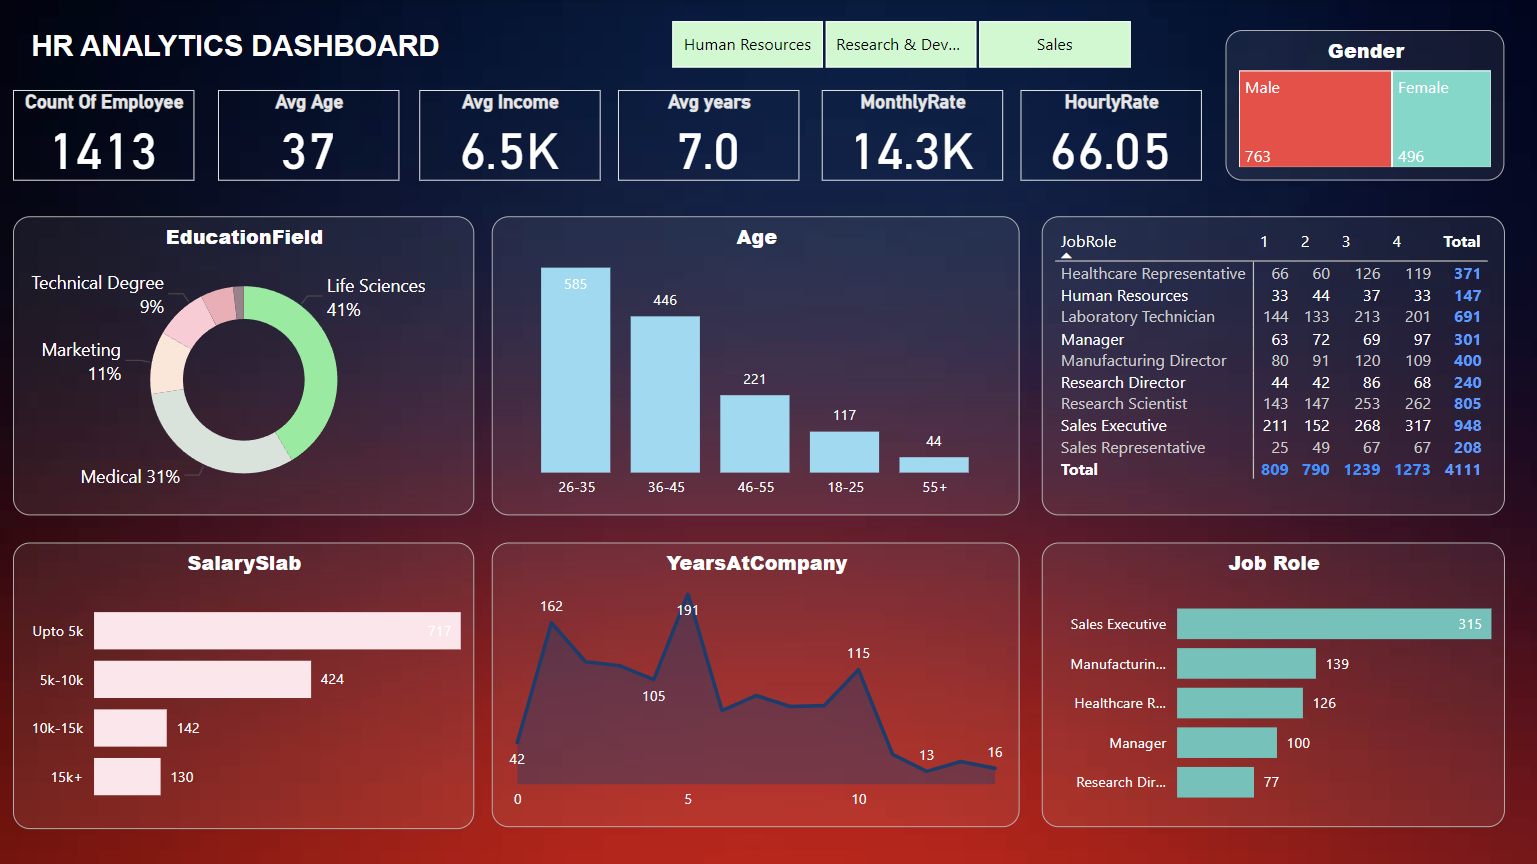

What the dashboard file says about the page in this screenshot:
{"tool":"powerbi","page":{"name":"Page 1","canvas":[1280,720],"ordinal":0},"visuals":[{"type":"card","title":"Count Of Employee","fields":{"Values":["CountNonNull(HR_Analytics.EmpID)"]},"box":[12.5,75,150,75],"z":0},{"type":"card","title":"Avg Age","fields":{"Values":["Avg(HR_Analytics.Age)"]},"box":[182.5,75,150,75],"z":1000},{"type":"card","title":"MonthlyRate","fields":{"Values":["Avg(HR_Analytics.MonthlyRate)"]},"box":[682.5,75,150,75],"z":2000},{"type":"card","title":"HourlyRate","fields":{"Values":["Avg(HR_Analytics.HourlyRate)"]},"box":[847.5,75,150,75],"z":3000},{"type":"card","title":"Avg Income","fields":{"Values":["Avg(HR_Analytics.MonthlyIncome)"]},"box":[348.8,75,150,75],"z":4000},{"type":"card","title":"Avg years","fields":{"Values":["Avg(HR_Analytics.YearsAtCompany)"]},"box":[513.8,75,150,75],"z":5000},{"type":"donutChart","title":"EducationField","fields":{"Category":["HR_Analytics.EducationField"],"Y":["CountNonNull(HR_Analytics.EmpID)"]},"box":[12,179.1,382.3,248.3],"z":6000},{"type":"columnChart","title":"Age","fields":{"Category":["HR_Analytics.AgeGroup"],"Y":["CountNonNull(HR_Analytics.EmpID)"]},"box":[409.4,179.1,438,248.3],"z":7000},{"type":"pivotTable","fields":{"Rows":["HR_Analytics.JobRole"],"Columns":["HR_Analytics.JobSatisfaction"],"Values":["Sum(HR_Analytics.Education)"]},"box":[865.4,179.1,383.8,248.3],"z":8000},{"type":"clusteredBarChart","title":"SalarySlab","fields":{"Category":["HR_Analytics.SalarySlab"],"Y":["CountNonNull(HR_Analytics.EmpID)"]},"box":[12,450,382.3,237.8],"z":9000},{"type":"clusteredBarChart","title":"Job Role","fields":{"Category":["HR_Analytics.JobRole"],"Y":["CountNonNull(HR_Analytics.EmpID)"]},"box":[865.4,450,383.8,236.3],"z":10000},{"type":"areaChart","title":"YearsAtCompany","fields":{"Category":["HR_Analytics.YearsAtCompany"],"Y":["CountNonNull(HR_Analytics.EmpID)"]},"box":[409.4,450,438,236.3],"z":11000},{"type":"treemap","title":"Gender","fields":{"Group":["HR_Analytics.Gender"],"Values":["CountNonNull(HR_Analytics.EmpID)"]},"box":[1017.5,25,231.2,125],"z":12000},{"type":"slicer","fields":{"Values":["HR_Analytics.Department"]},"box":[532.5,10,430,52.5],"z":13000},{"type":"textbox","box":[22.5,20,387.5,42.5],"z":14000}]}

Visuals, with their boxes in screenshot pixels (x1, y1, x2, y2), scaled from the page's 1280x720 canvas onto the 1537x864 screenshot:
"Count Of Employee" card: (left=15, top=90, right=195, bottom=180)
"Avg Age" card: (left=219, top=90, right=399, bottom=180)
"MonthlyRate" card: (left=820, top=90, right=1000, bottom=180)
"HourlyRate" card: (left=1018, top=90, right=1198, bottom=180)
"Avg Income" card: (left=419, top=90, right=599, bottom=180)
"Avg years" card: (left=617, top=90, right=797, bottom=180)
"EducationField" donutChart: (left=14, top=215, right=473, bottom=513)
"Age" columnChart: (left=492, top=215, right=1018, bottom=513)
pivotTable - HR_Analytics.JobRole x HR_Analytics.JobSatisfaction: (left=1039, top=215, right=1500, bottom=513)
"SalarySlab" clusteredBarChart: (left=14, top=540, right=473, bottom=825)
"Job Role" clusteredBarChart: (left=1039, top=540, right=1500, bottom=824)
"YearsAtCompany" areaChart: (left=492, top=540, right=1018, bottom=824)
"Gender" treemap: (left=1222, top=30, right=1499, bottom=180)
slicer - HR_Analytics.Department: (left=639, top=12, right=1156, bottom=75)
textbox: (left=27, top=24, right=492, bottom=75)
